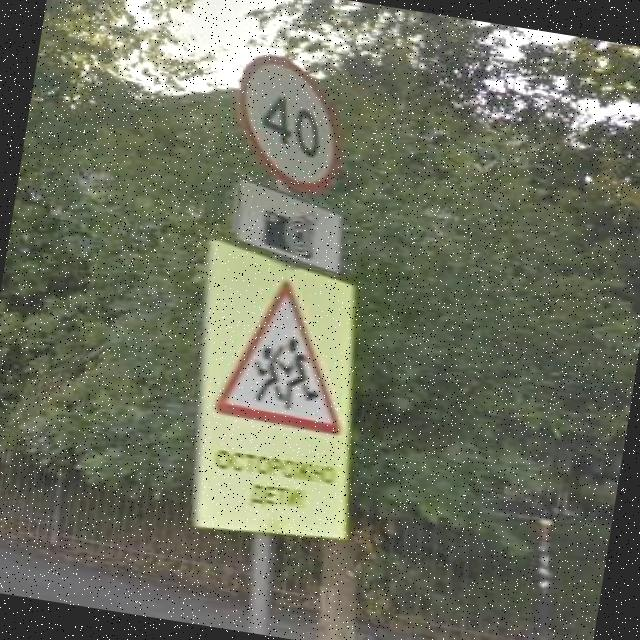Dzieci: (214, 270, 364, 438)
Ograniczenie predkosci do 40: (223, 47, 357, 199)
